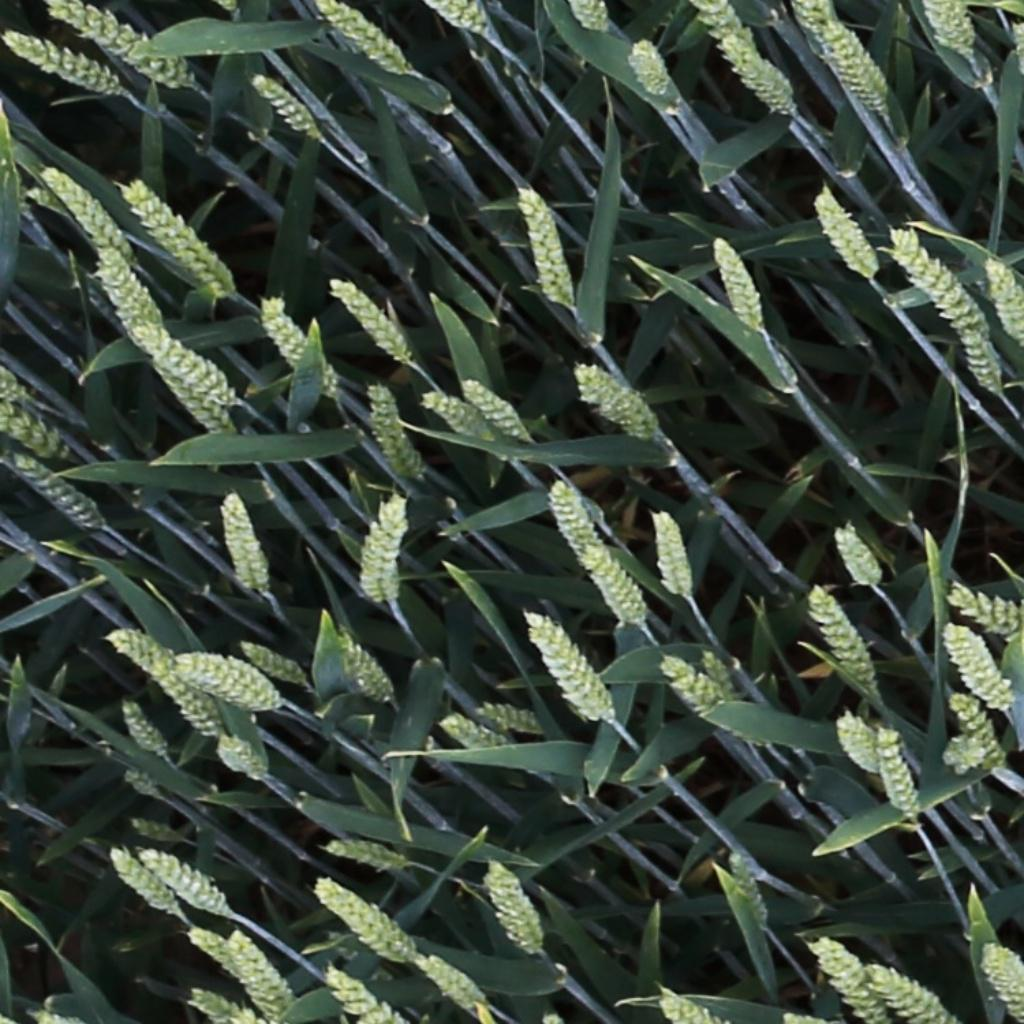0-0: (107, 628, 226, 744), (114, 176, 230, 294), (886, 222, 993, 346), (57, 1, 197, 90), (684, 0, 786, 117), (36, 159, 137, 264), (522, 610, 613, 722), (804, 582, 882, 697), (312, 877, 413, 963), (326, 274, 413, 367), (253, 290, 330, 392), (131, 322, 230, 398), (174, 647, 288, 713), (9, 451, 103, 531), (514, 181, 573, 308), (819, 15, 892, 116), (314, 0, 408, 76), (5, 31, 118, 94), (809, 182, 879, 281), (90, 241, 163, 335), (809, 933, 886, 1021), (942, 621, 1013, 715), (148, 361, 233, 438), (136, 847, 228, 915), (230, 931, 296, 1024), (219, 488, 271, 606), (361, 379, 421, 481), (708, 229, 765, 334), (481, 860, 542, 958), (577, 544, 647, 629), (576, 365, 658, 436), (327, 626, 394, 709), (361, 495, 410, 608), (718, 38, 795, 109), (319, 963, 407, 1024), (546, 475, 602, 570), (245, 70, 319, 140), (105, 849, 177, 918), (458, 375, 529, 443), (875, 724, 920, 826), (981, 252, 1024, 349), (723, 846, 772, 931), (866, 966, 946, 1018), (649, 506, 692, 602), (412, 954, 484, 1011), (113, 694, 169, 764), (950, 325, 1004, 396), (830, 522, 884, 591), (834, 711, 887, 779), (980, 940, 1024, 1021), (0, 409, 69, 460), (420, 391, 492, 439), (656, 656, 723, 707), (626, 32, 674, 103), (947, 589, 1024, 633), (794, 0, 839, 73), (319, 838, 410, 874), (236, 641, 305, 686), (219, 729, 272, 787), (186, 926, 241, 981), (694, 643, 738, 705), (958, 703, 1001, 764), (929, 0, 974, 57), (438, 715, 505, 752), (193, 986, 258, 1024), (469, 700, 540, 734), (656, 989, 714, 1024), (430, 0, 486, 35), (569, 0, 608, 36), (946, 734, 979, 774)
